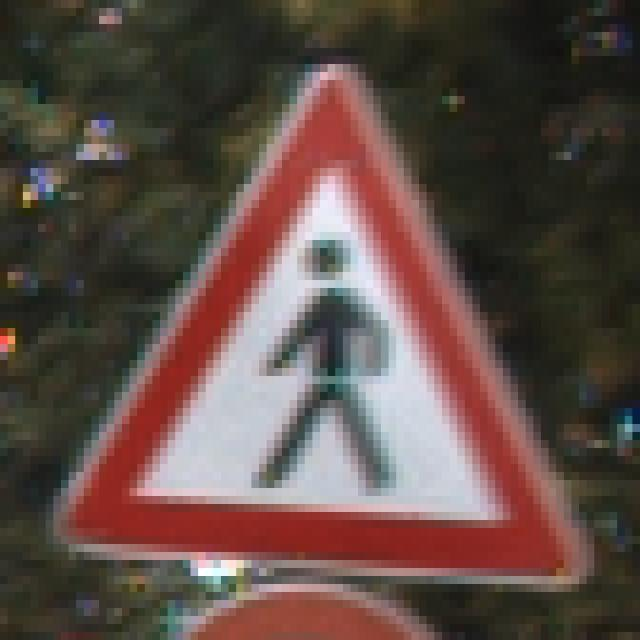pedestrian crossing: (57, 54, 576, 588)
